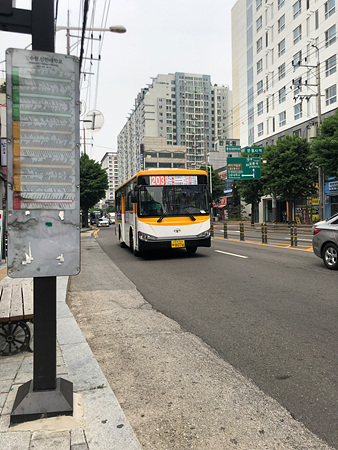bnum: (150, 175, 165, 183)
